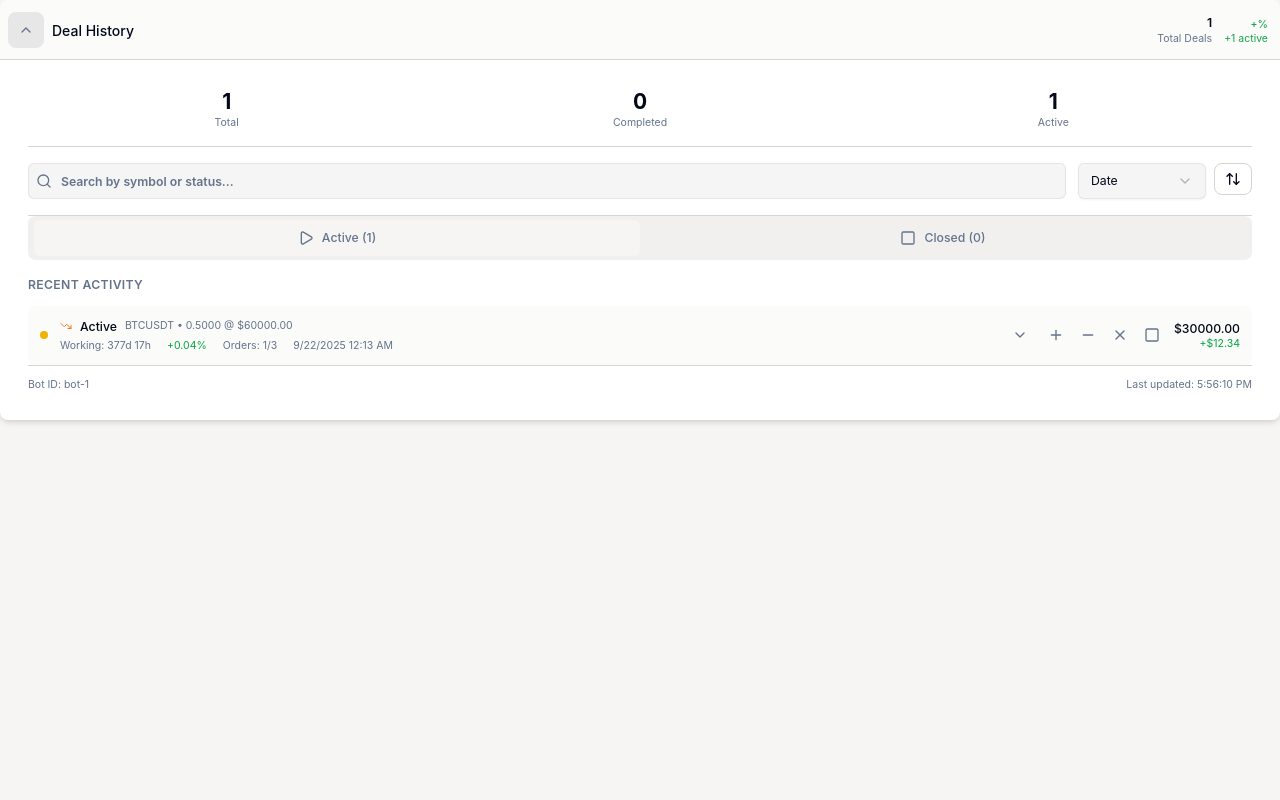
Deal History widget — per-row deal actions › sends nothing when the cancel confirmation is dismissed
The width and height of the screenshot is (1280, 800).
Click the button named "Cancel deal" at (1120, 335), box [1106,321,1134,349]
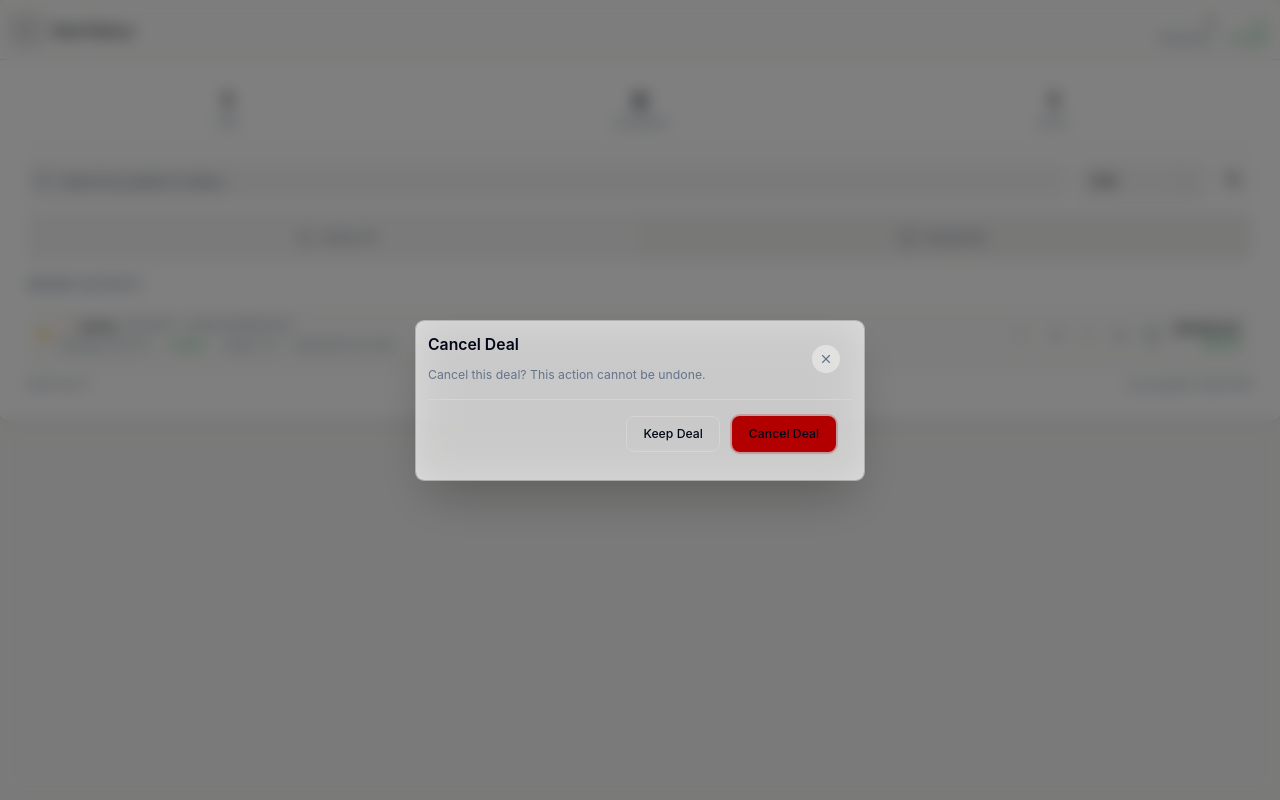
Click the button "Keep Deal" at (673, 434), box [626,416,720,452]
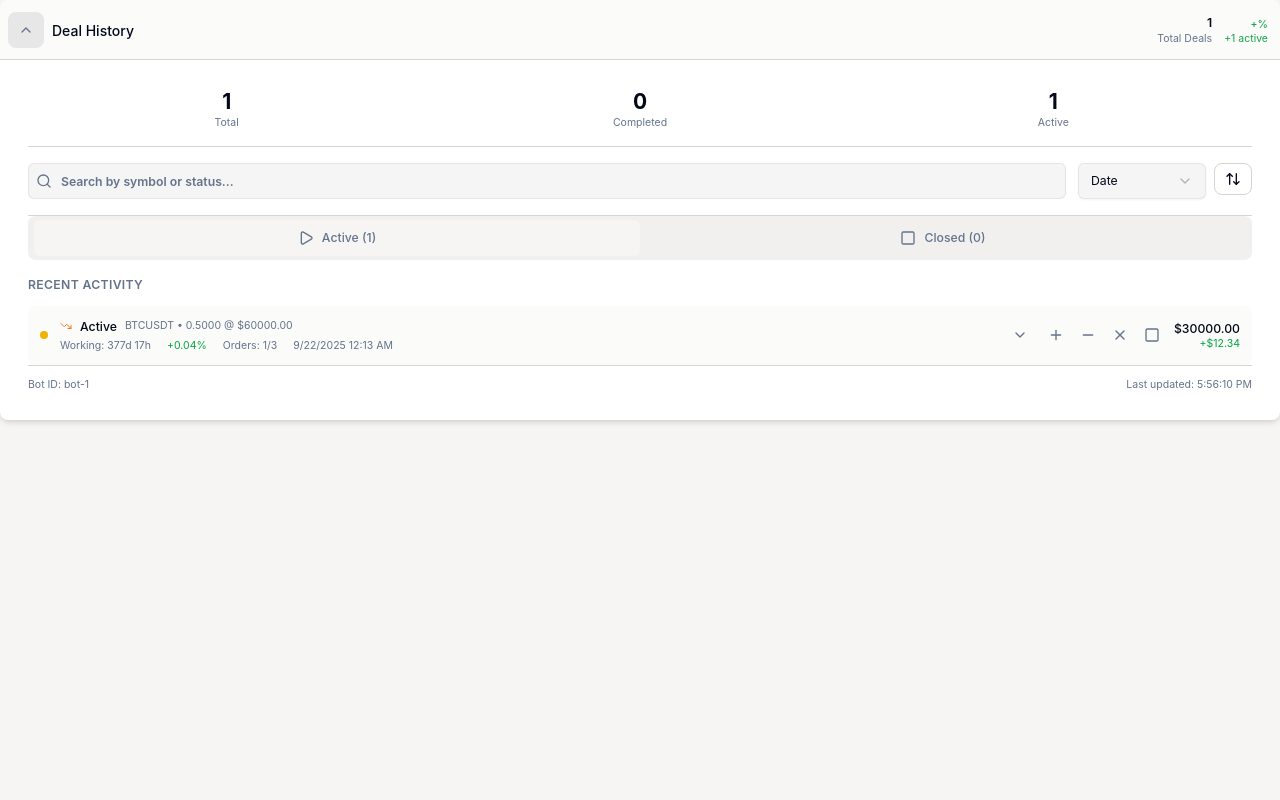
Check: the dialog is gone
